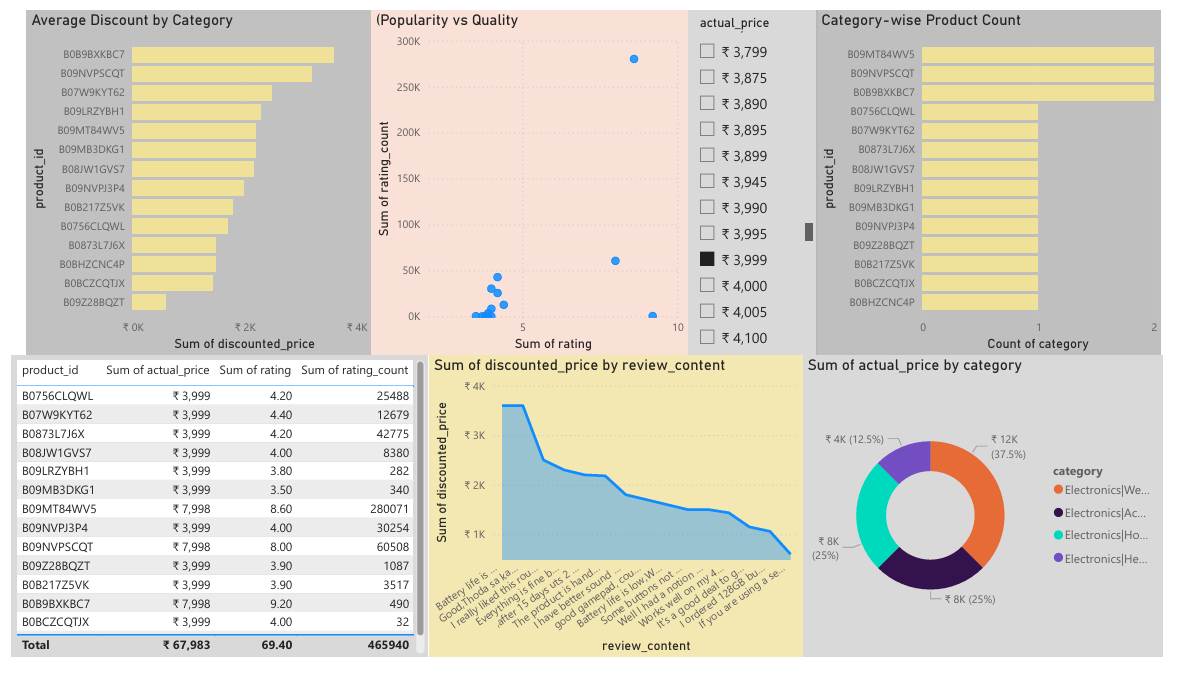

This screenshot's page, from the dashboard's own definition file:
{"tool":"powerbi","page":{"name":"Page 1","canvas":[1280,720],"ordinal":0},"visuals":[{"type":"clusteredBarChart","title":"Average Discount by Category","fields":{"Category":["amazon.product_id"],"Y":["Sum(amazon.discounted_price)"]},"box":[16,0,384,384],"z":0},{"type":"barChart","title":"Category-wise Product Count","fields":{"Y":["CountNonNull(amazon.category)"],"Category":["amazon.product_id"]},"box":[896,0,384,384],"z":1000},{"type":"scatterChart","title":"(Popularity vs Quality","fields":{"X":["Sum(amazon.rating)"],"Y":["Sum(amazon.rating_count)"],"Category":["amazon.product_name"]},"box":[400,0,352,384],"z":2000},{"type":"tableEx","fields":{"Values":["amazon.product_id","Sum(amazon.actual_price)","Sum(amazon.rating)","Sum(amazon.rating_count)"]},"box":[0,384,464,336],"z":3000},{"type":"slicer","fields":{"Values":["amazon.actual_price"]},"box":[752,0,144,384],"z":4000},{"type":"areaChart","fields":{"Y":["Sum(amazon.discounted_price)"],"Category":["amazon.review_content"]},"box":[464,384,416,336],"z":5000},{"type":"donutChart","fields":{"Y":["Sum(amazon.actual_price)"],"Category":["amazon.category"]},"box":[880,384,400,336],"z":6000}]}

Visuals, with their boxes in screenshot pixels (x1, y1, x2, y2), scaled from the page's 1280x720 canvas onto the 1184x673 screenshot:
"Average Discount by Category" clusteredBarChart: left=15, top=0, right=370, bottom=359
"Category-wise Product Count" barChart: left=829, top=0, right=1183, bottom=359
"(Popularity vs Quality" scatterChart: left=370, top=0, right=696, bottom=359
tableEx - amazon.product_id x Sum(amazon.actual_price): left=0, top=359, right=429, bottom=672
slicer - amazon.actual_price: left=696, top=0, right=829, bottom=359
areaChart - Sum(amazon.discounted_price) x amazon.review_content: left=429, top=359, right=814, bottom=672
donutChart - Sum(amazon.actual_price) x amazon.category: left=814, top=359, right=1183, bottom=672
